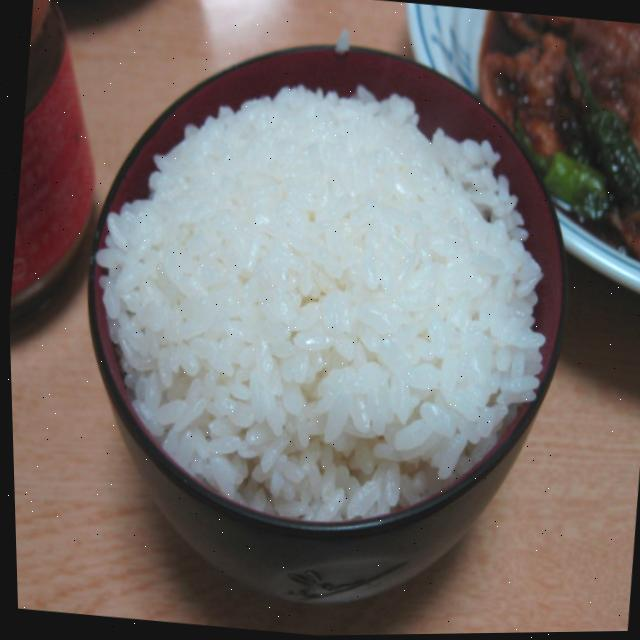米饭主食: (52, 46, 590, 561)
